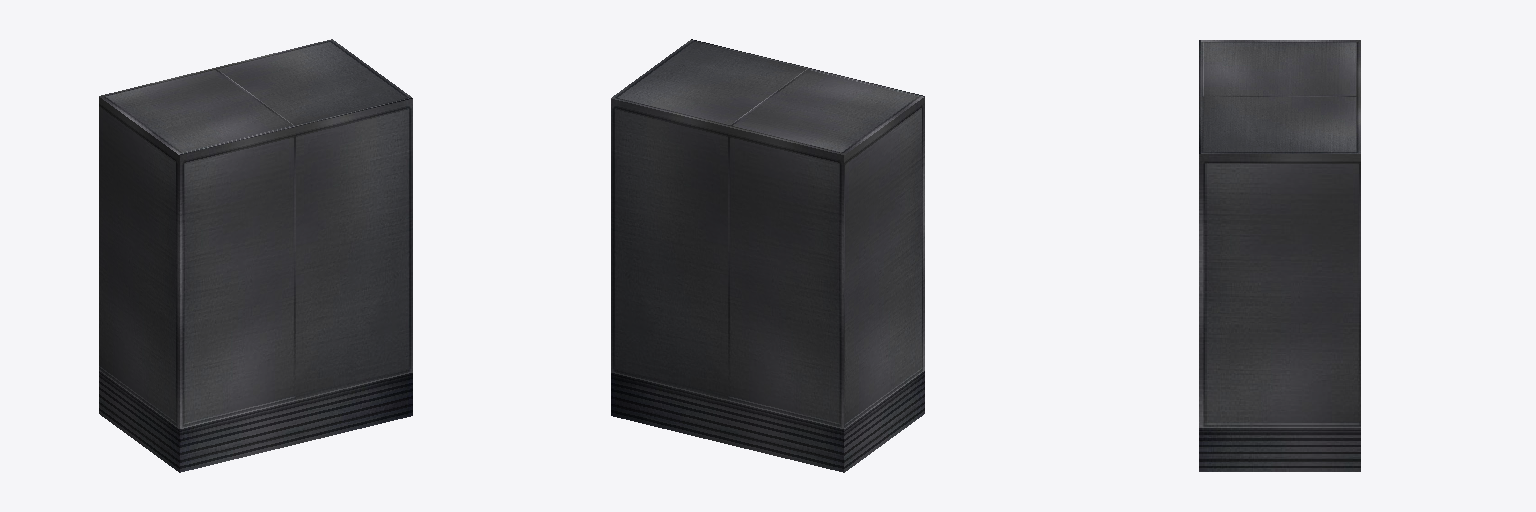
The picture shows the model from 3 angles: view 1: azimuth 30°, elevation 25°; view 2: azimuth 150°, elevation 25°; view 3: azimuth 270°, elevation 25°; orthographic projection.
Parts seen in each view (by area): view 1: electricBox_5_v1; view 2: electricBox_5_v1; view 3: electricBox_5_v1.
Part boxes in pixels (bbox=[...]): electricBox_5_v1: bbox=[99, 39, 412, 472]; electricBox_5_v1: bbox=[611, 39, 924, 472]; electricBox_5_v1: bbox=[1199, 40, 1360, 471].
Bounding box in the file's own units: 0.6652 × 0.8628 × 0.3988.
1 materials, 1 textured.